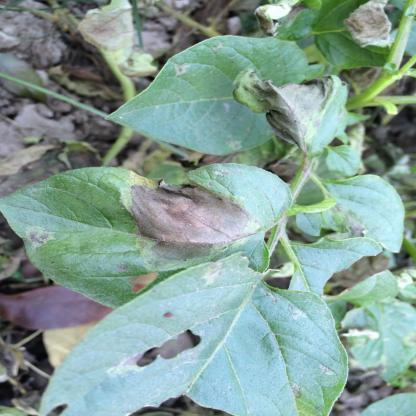Tomato leaf mosaic virus: (109, 158, 304, 250), (236, 70, 356, 160)
